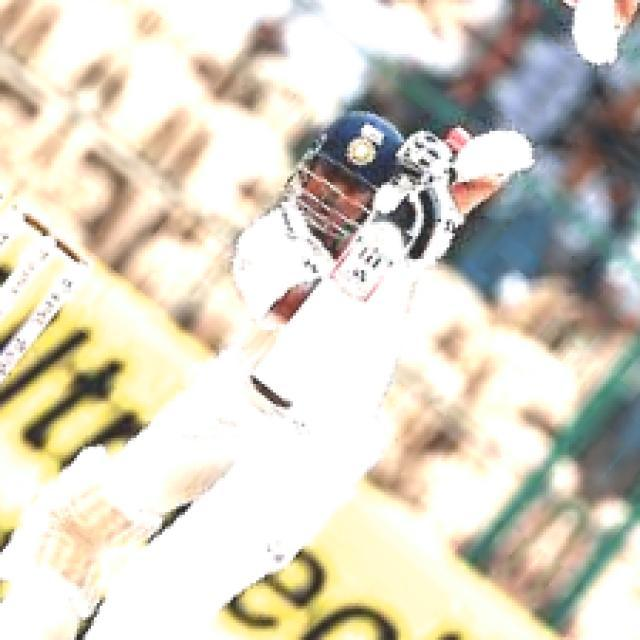bat: (241, 216, 405, 419)
toe: (245, 371, 294, 412)
